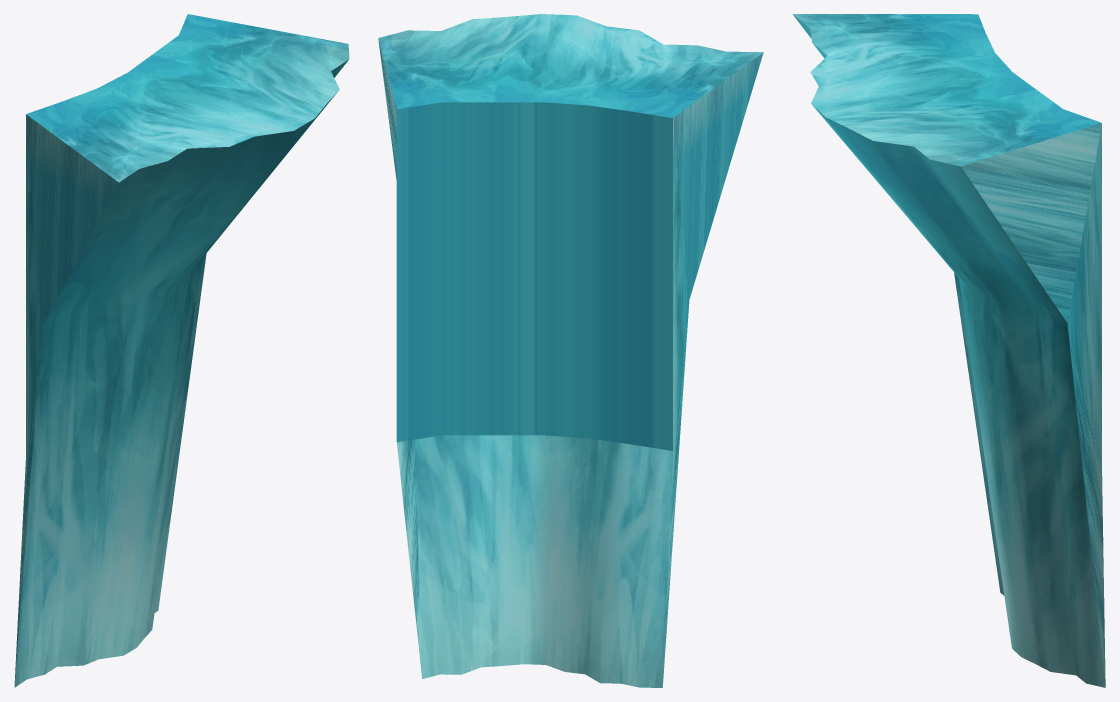
Rendered from ic_arthas_iceshard02.obj.
3 renders of one model, left to right at view 1: azimuth 30°, elevation 25°; view 2: azimuth 150°, elevation 25°; view 3: azimuth 270°, elevation 25°, orthographic. The views are drawn at different scales.
Parts seen in each view (by area): view 1: IC_arthas_iceshard02; view 2: IC_arthas_iceshard02; view 3: IC_arthas_iceshard02.
Boxes of the visible parts, left/top/right/bottom form: IC_arthas_iceshard02: left=14, top=14, right=349, bottom=687; IC_arthas_iceshard02: left=378, top=14, right=763, bottom=687; IC_arthas_iceshard02: left=792, top=14, right=1105, bottom=687.
Size of the model in its own units: 46.63 by 82.47 by 40.46.
